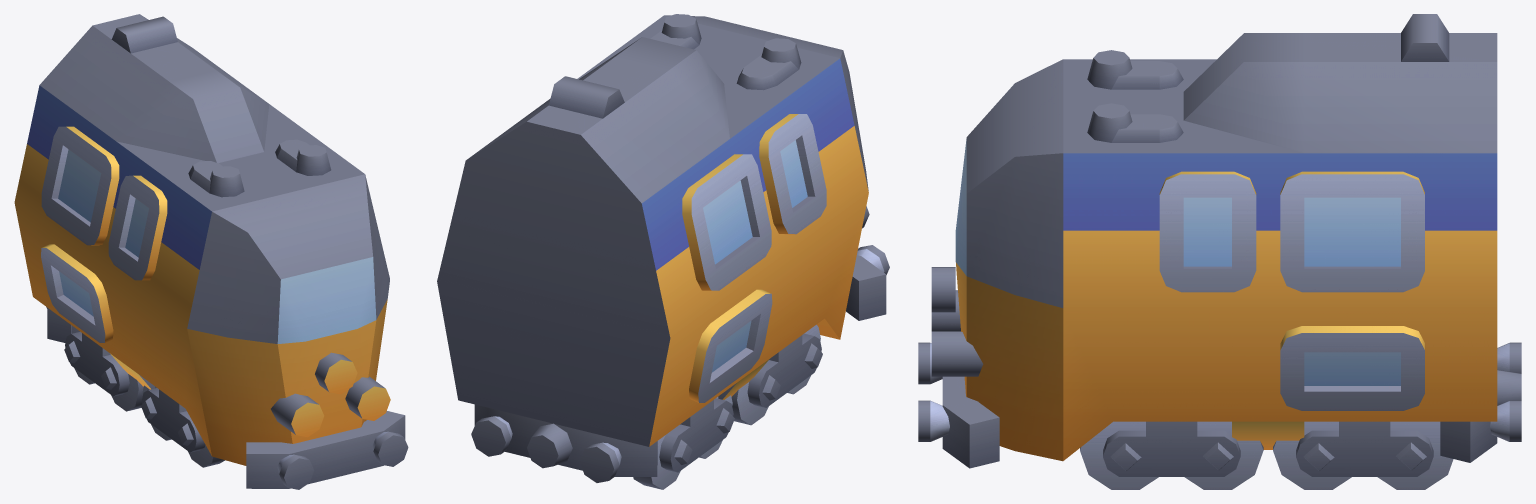
The model's file is train-electric-double-a.glb.
3 renders of one model, left to right at view 1: azimuth 30°, elevation 25°; view 2: azimuth 150°, elevation 25°; view 3: azimuth 270°, elevation 25°, orthographic. The views are drawn at different scales.
Parts seen in each view (by area): view 1: train-electric-double-a; view 2: train-electric-double-a; view 3: train-electric-double-a.
Boxes of the visible parts, x1,y1,x2,y2 form: train-electric-double-a: [14, 14, 408, 489]; train-electric-double-a: [437, 14, 889, 489]; train-electric-double-a: [918, 14, 1521, 489].
Bounding box in the file's own units: 1.29 × 1.92 × 2.5.
Materials: 1 (1 with a texture image).
